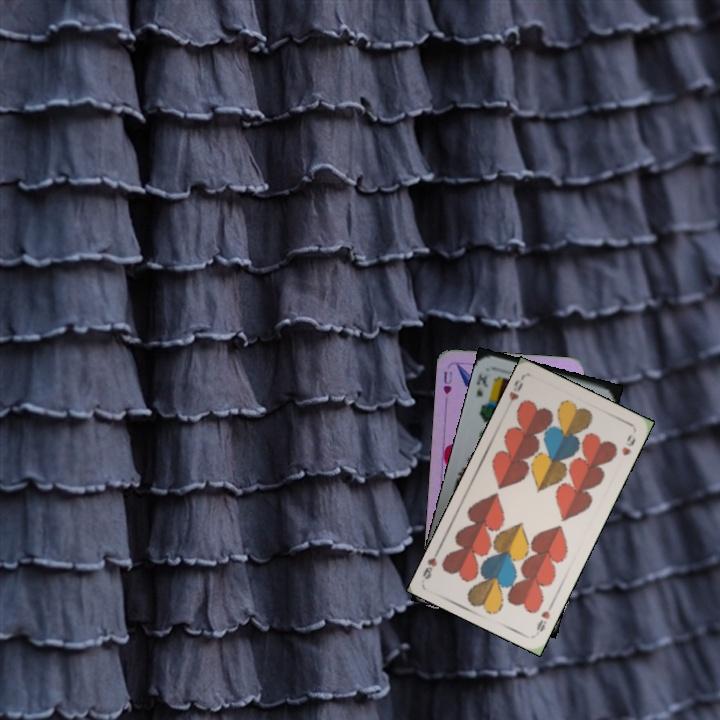EK: (472, 369, 491, 399)
H9: (532, 599, 556, 635), (505, 376, 525, 403)
HU: (439, 367, 455, 397)
